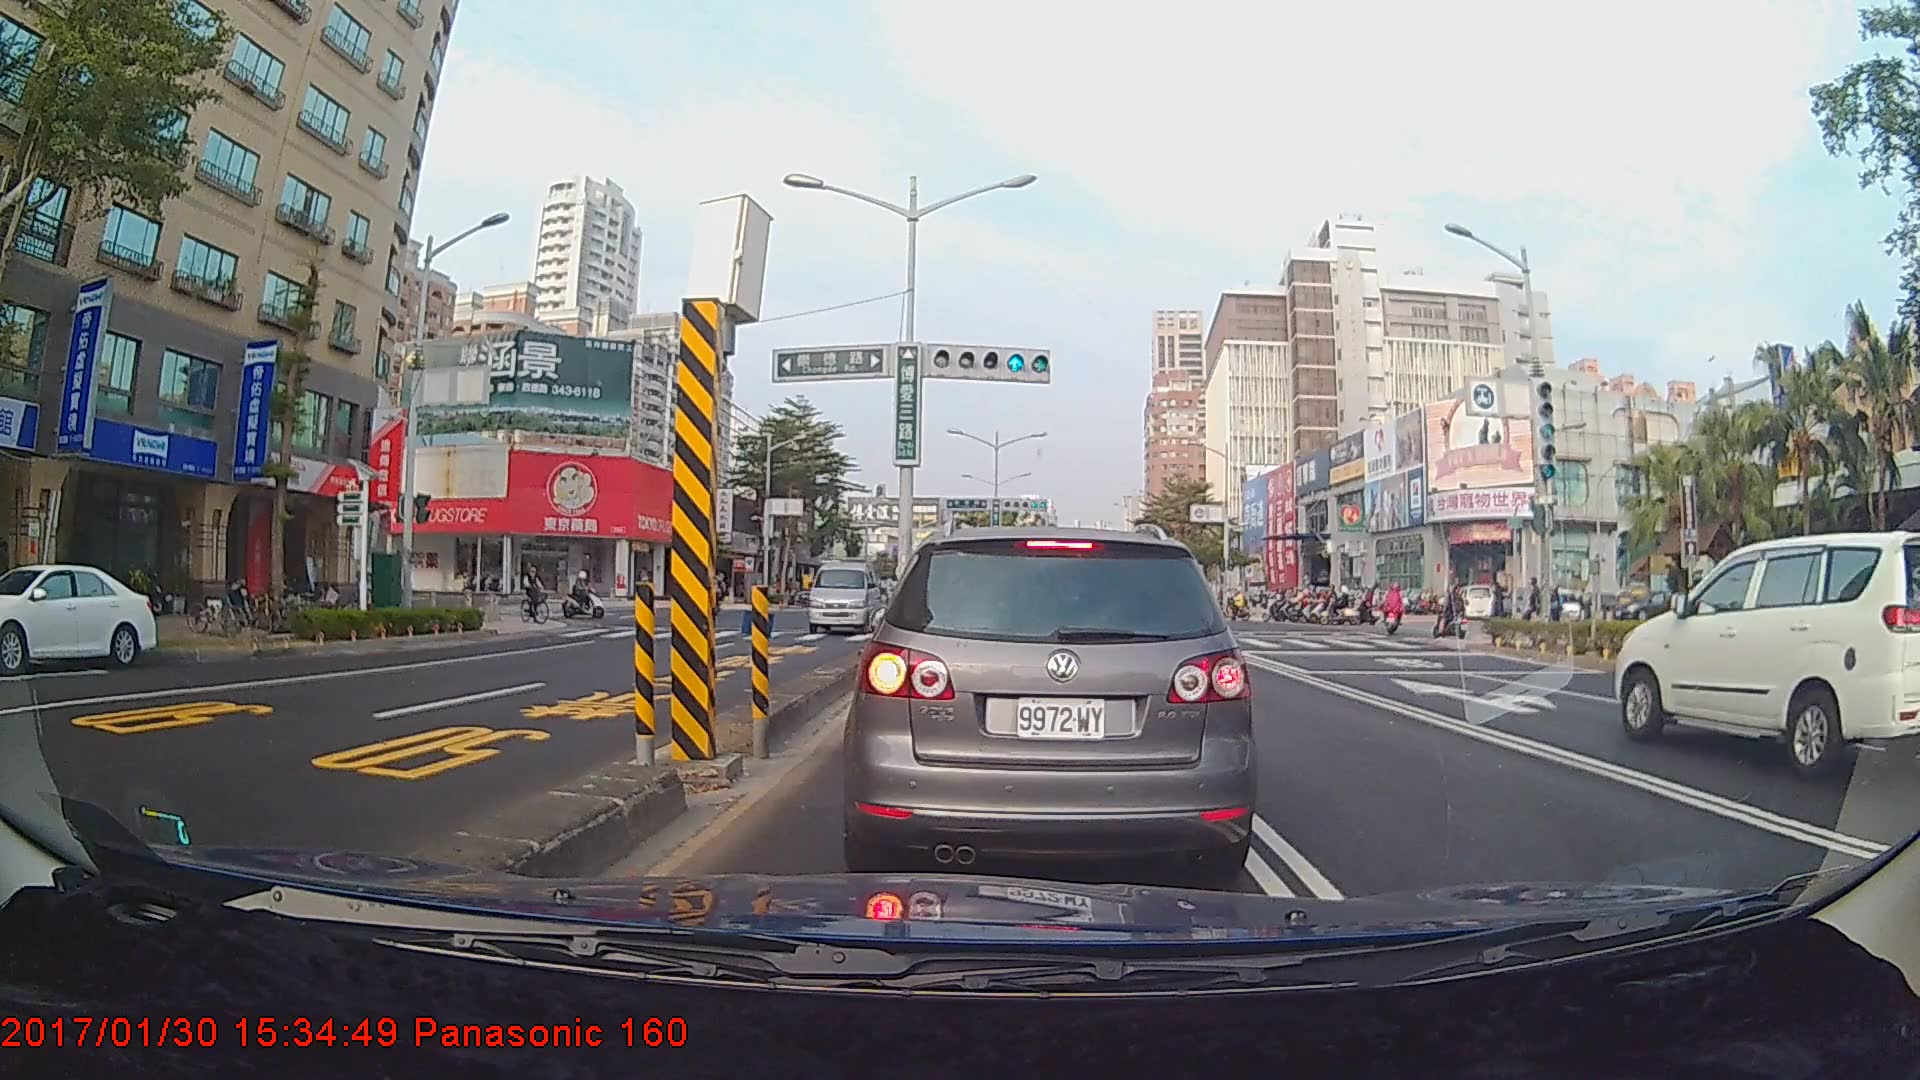pedestrian: (1491, 579, 1513, 637)
rider: (563, 568, 615, 625), (518, 559, 558, 629), (1436, 582, 1473, 646), (1384, 580, 1410, 640)
vehicle: (855, 522, 1252, 873), (1613, 529, 1920, 780), (0, 561, 159, 671), (806, 548, 882, 635)
